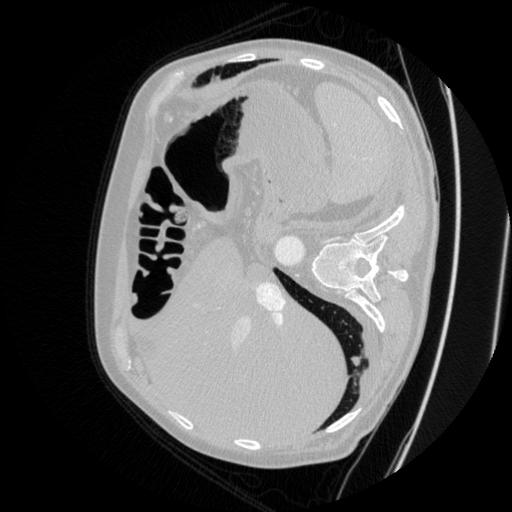nodule: (348, 354, 364, 370)
